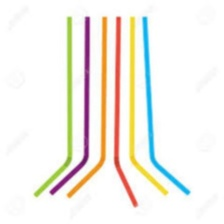drinking_straw: (138, 14, 194, 198), (30, 14, 77, 201), (110, 14, 142, 210)
